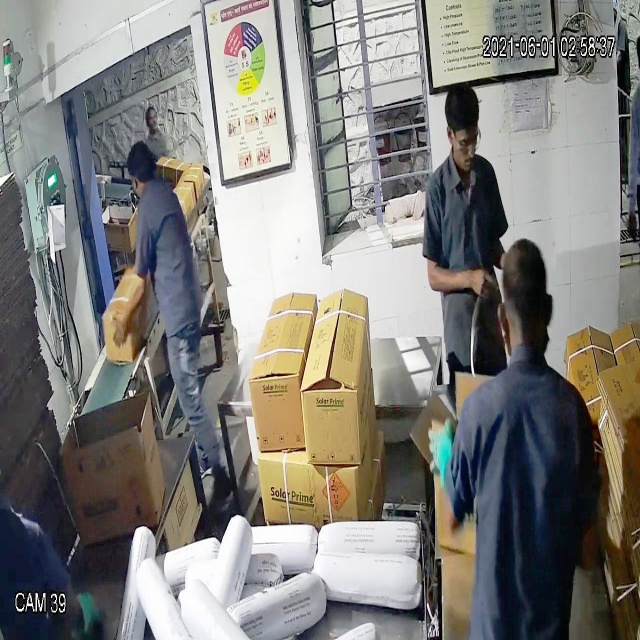Gafas: (441, 122, 485, 158)
